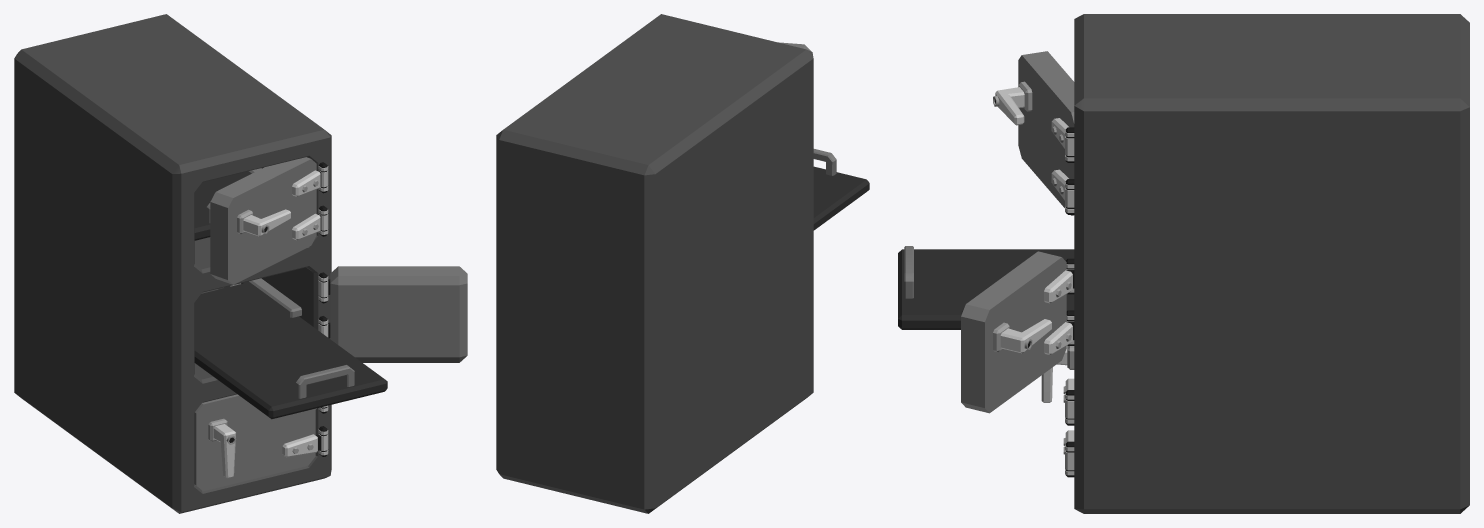
Rendered from Mortuary Freezer 02.fbx.
3 views of the same model, side by side, from view 1: azimuth 30°, elevation 25°; view 2: azimuth 150°, elevation 25°; view 3: azimuth 270°, elevation 25° (orthographic). The views are drawn at different scales.
Parts seen in each view (by area): view 1: Mortuary_Freezer_02; view 2: Mortuary_Freezer_02; view 3: Mortuary_Freezer_02.
Part boxes in pixels (box(x1,y1,x2,y2)): Mortuary_Freezer_02: box(14, 14, 467, 513); Mortuary_Freezer_02: box(496, 14, 869, 513); Mortuary_Freezer_02: box(898, 14, 1469, 513).
Bounding box in the file's own units: 212 × 278 × 347.
